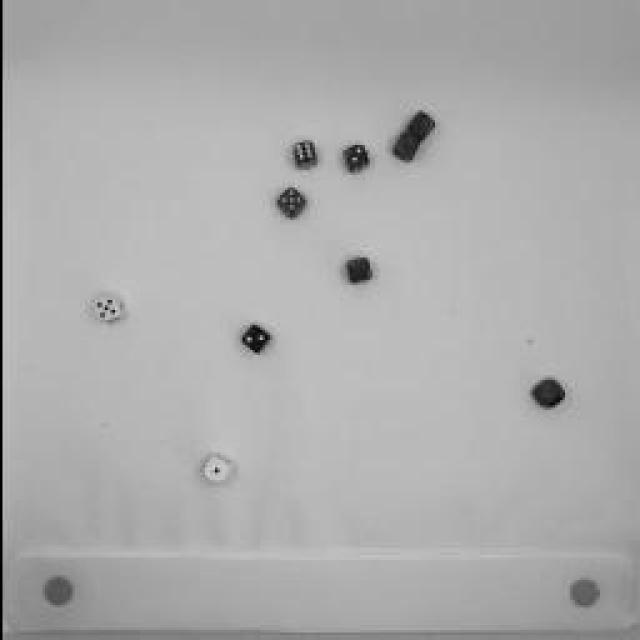dice_1: (198, 448, 232, 494)
dice_2: (335, 139, 375, 181), (236, 318, 276, 358), (390, 133, 420, 165)
dice_3: (339, 256, 376, 289)
dice_4: (529, 375, 566, 410), (404, 111, 436, 144)
dice_5: (272, 188, 312, 222), (88, 295, 128, 327)
dice_6: (288, 136, 320, 174)
